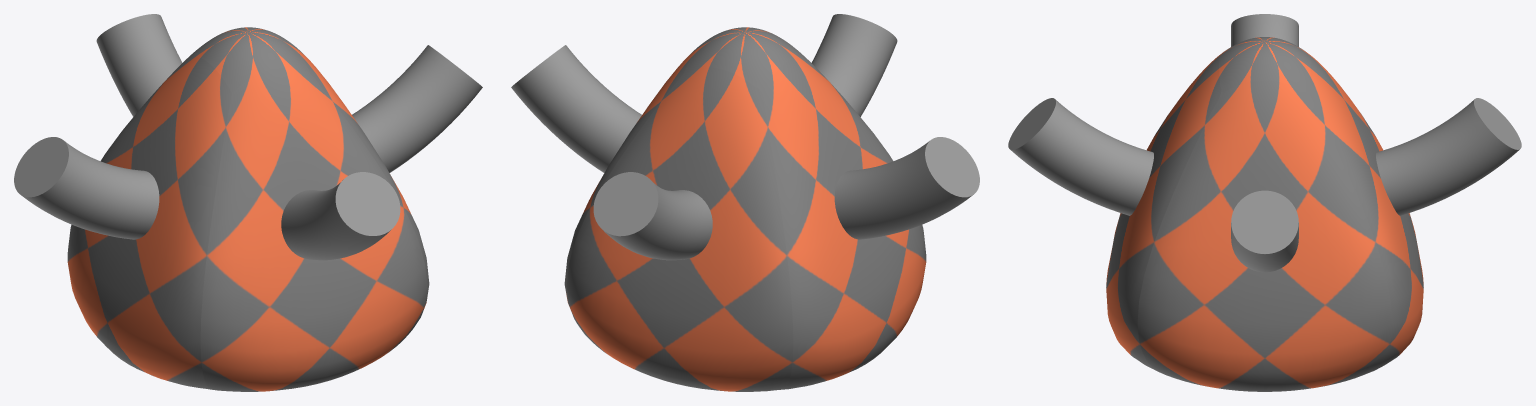
Rendered from Body(Pyramidal)+Colour(More_Orange)+Pattern(Diamond)+Arm_Angle(Bent_Up).fbx.
The picture shows the model from 3 angles, left to right: view 1: azimuth 30°, elevation 25°; view 2: azimuth 150°, elevation 25°; view 3: azimuth 270°, elevation 25°; orthographic projection. The views are drawn at different scales.
Visible parts, largest first — view 1: Body(Pyramidal)+Colour(More_Orange)+Pattern(Diamond)+Arm_Ang (×5); view 2: Body(Pyramidal)+Colour(More_Orange)+Pattern(Diamond)+Arm_Ang (×5); view 3: Body(Pyramidal)+Colour(More_Orange)+Pattern(Diamond)+Arm_Ang (×5).
Boxes of the visible parts, bbox=[...] form: Body(Pyramidal)+Colour(More_Orange)+Pattern(Diamond)+Arm_Ang (×5): bbox=[14, 14, 482, 391]; Body(Pyramidal)+Colour(More_Orange)+Pattern(Diamond)+Arm_Ang (×5): bbox=[511, 14, 979, 391]; Body(Pyramidal)+Colour(More_Orange)+Pattern(Diamond)+Arm_Ang (×5): bbox=[1008, 14, 1521, 391].
Size of the model in its own units: 60.67 by 40 by 60.67.
2 materials, 1 textured.
